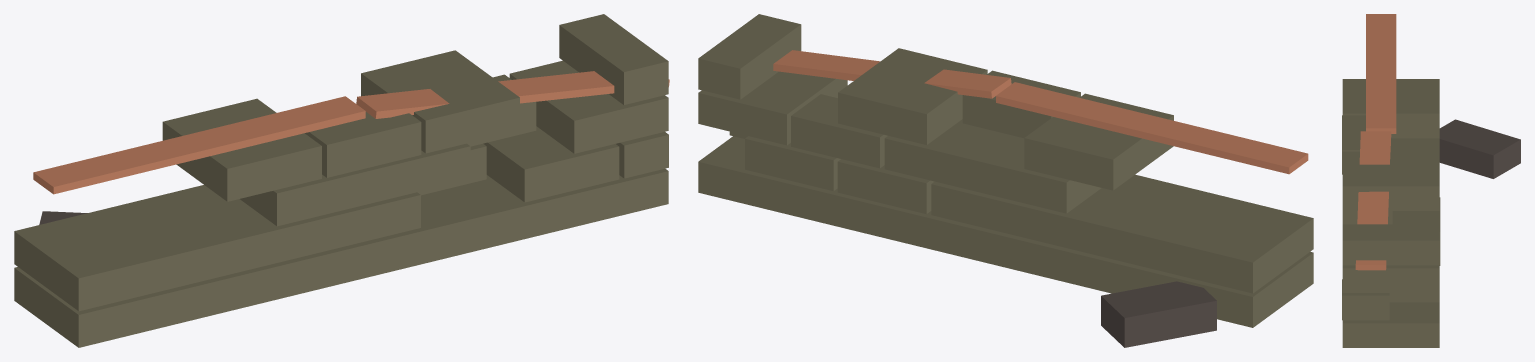
File: SM_PretilTramo_v3_Tablon_e1_Danado_LOD1.fbx
3 renders of one model, left to right at view 1: azimuth 30°, elevation 25°; view 2: azimuth 150°, elevation 25°; view 3: azimuth 270°, elevation 25°, orthographic. The views are drawn at different scales.
Visible parts, largest first — view 1: SM_pretil_azotea_v13_LOD1; view 2: SM_pretil_azotea_v13_LOD1; view 3: SM_pretil_azotea_v13_LOD1.
Boxes of the visible parts, x1,y1,x2,y2 form: SM_pretil_azotea_v13_LOD1: [14, 14, 669, 347]; SM_pretil_azotea_v13_LOD1: [698, 14, 1313, 347]; SM_pretil_azotea_v13_LOD1: [1342, 14, 1520, 347].
Size of the model in its own units: 5.23 by 1.26 by 1.77.
